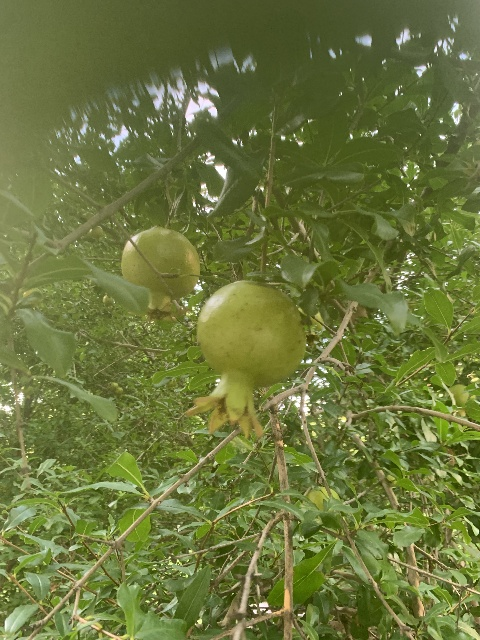mid-growth: (185, 280, 306, 440), (121, 226, 200, 323)
